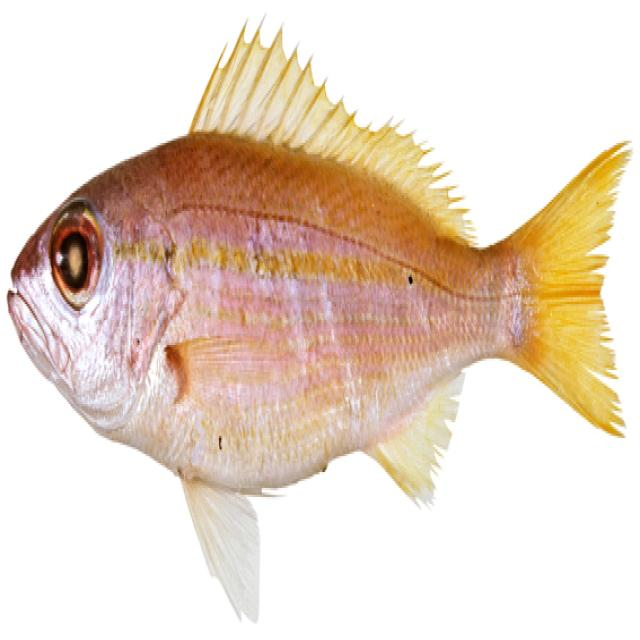ikan: (6, 11, 632, 622)
